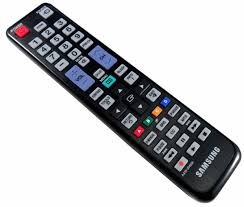remote control: (0, 1, 244, 206)
